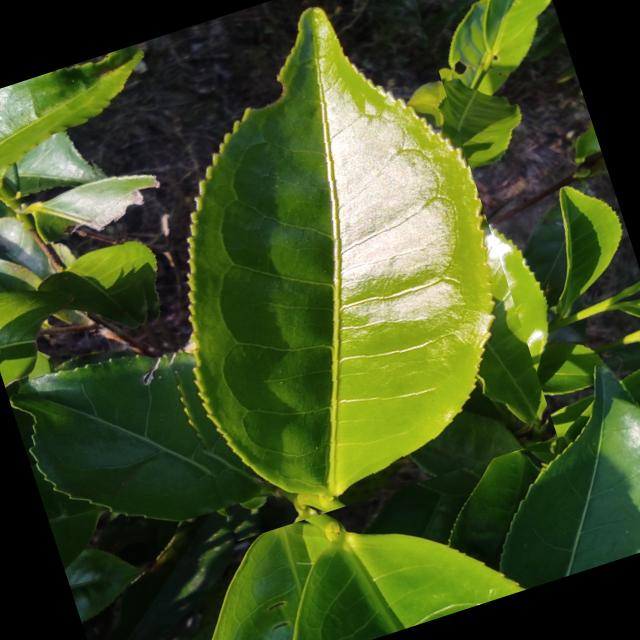Category B(2-4 days): (56, 0, 557, 548)
